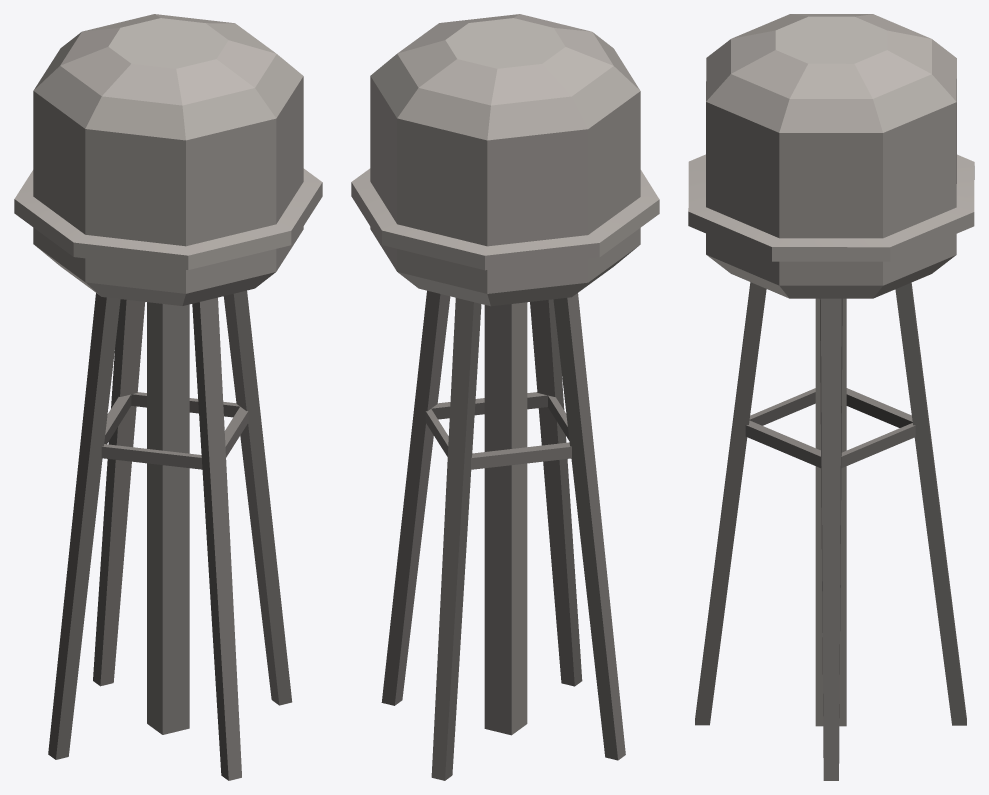
The model's file is SA_Bld_WaterTower_01.gltf.
3 renders of one model, left to right at view 1: azimuth 30°, elevation 25°; view 2: azimuth 150°, elevation 25°; view 3: azimuth 270°, elevation 25°, orthographic.
Parts seen in each view (by area): view 1: SA_Bld_WaterTower_01; view 2: SA_Bld_WaterTower_01; view 3: SA_Bld_WaterTower_01.
Boxes of the visible parts, bbox=[...] form: SA_Bld_WaterTower_01: bbox=[14, 14, 322, 780]; SA_Bld_WaterTower_01: bbox=[351, 14, 659, 780]; SA_Bld_WaterTower_01: bbox=[688, 14, 974, 780].
Bounding box in the file's own units: 8.91 × 23.46 × 8.91.
Materials: 1 (1 with a texture image).
